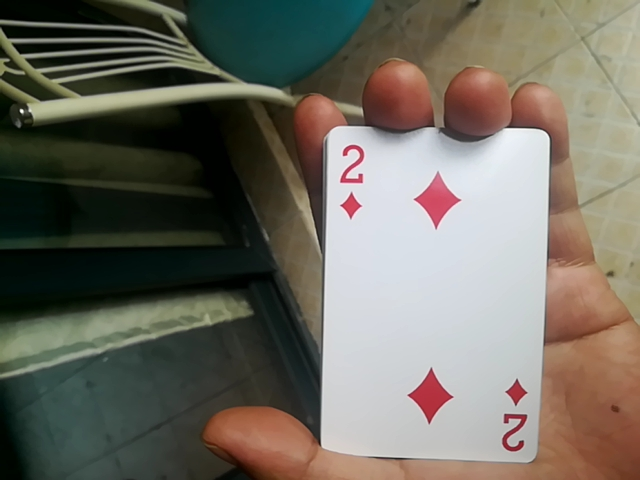fk 2: (317, 114, 549, 468)
